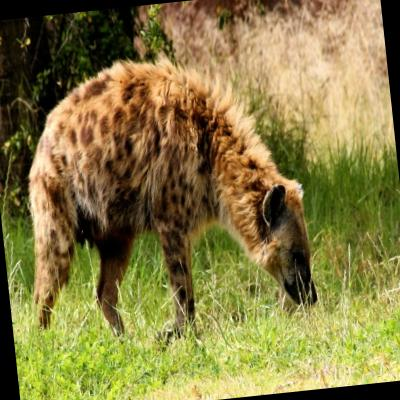hyenas: (0, 29, 365, 394)
